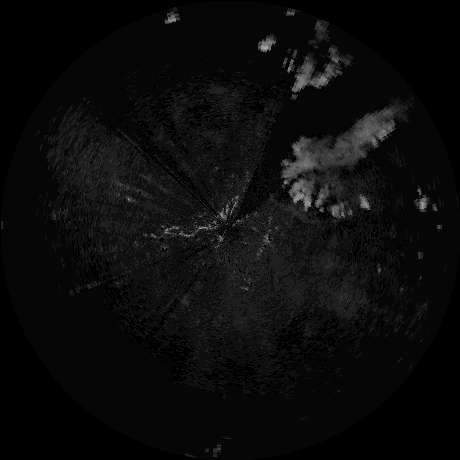frontgust: (267, 194, 322, 224)
